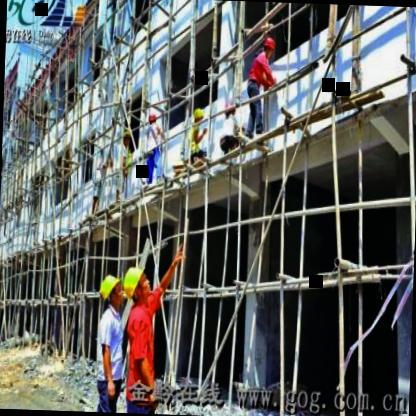helmet: (124, 264, 146, 308), (99, 274, 123, 314), (191, 106, 205, 130), (262, 35, 276, 58)
